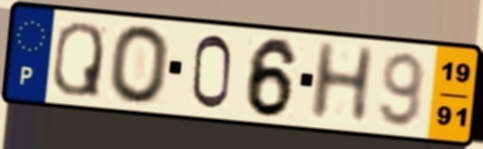0: (190, 32, 233, 112)
6: (241, 35, 302, 121)
9: (376, 50, 429, 130)
H: (306, 39, 379, 123)
O: (107, 22, 173, 107)
Q: (49, 19, 106, 100)
